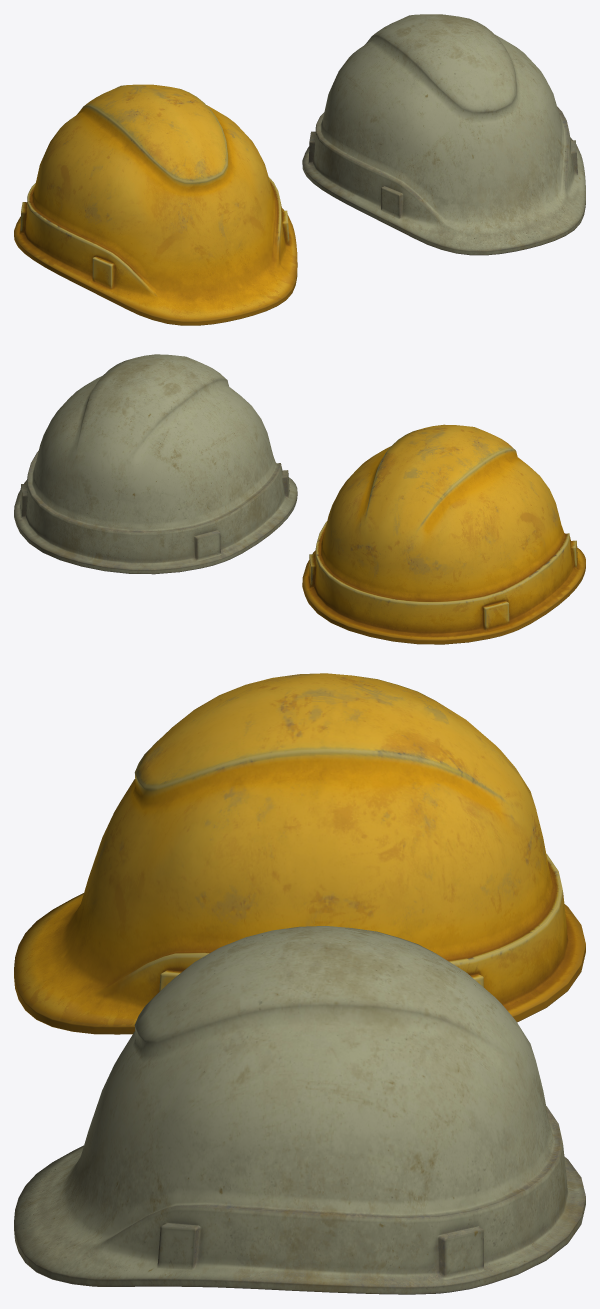
Rendered from señales10.fbx.
The picture shows the model from 3 angles, top to bottom: view 1: azimuth 30°, elevation 25°; view 2: azimuth 150°, elevation 25°; view 3: azimuth 270°, elevation 25°; orthographic projection. The views are drawn at different scales.
Visible parts, largest first — view 1: Object_2, Object_3; view 2: Object_2, Object_3; view 3: Object_2, Object_3.
Part boxes in pixels (left/top/right/bottom): Object_2: left=302, top=14, right=585, bottom=255; Object_3: left=14, top=84, right=297, bottom=325; Object_2: left=14, top=354, right=297, bottom=574; Object_3: left=302, top=424, right=585, bottom=644; Object_2: left=14, top=926, right=585, bottom=1294; Object_3: left=14, top=673, right=585, bottom=1034.
Size of the model in its own units: 910 by 267 by 479.
